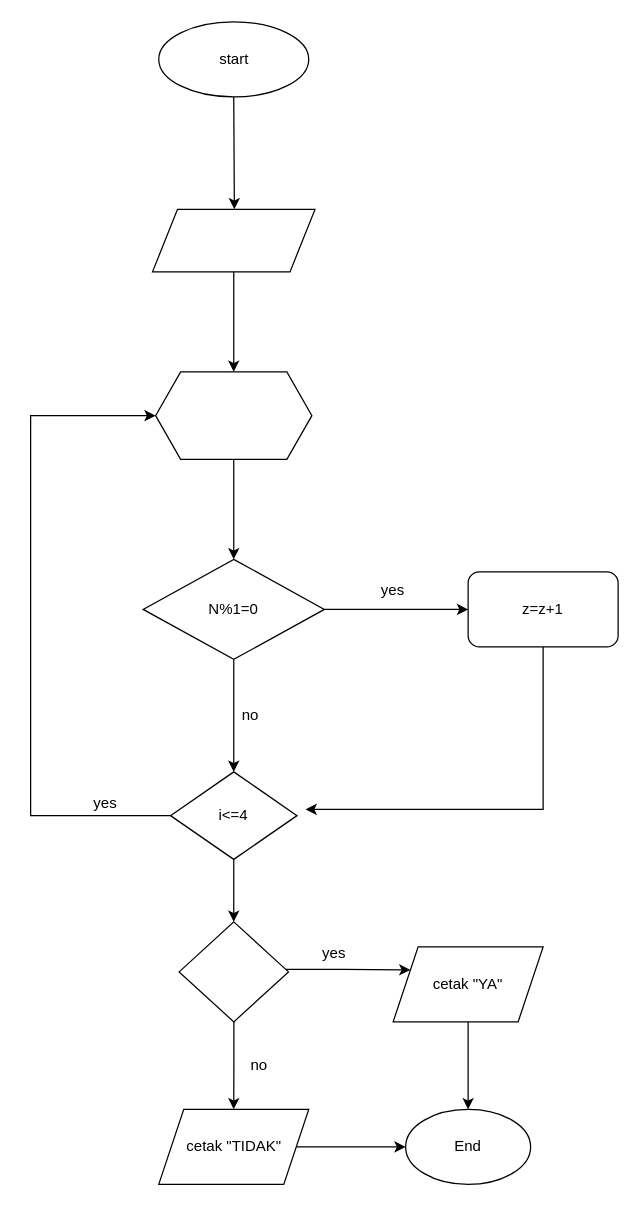
The diagram is 640 pixels wide and 1206 high, and some of its shapes have lost their labels. Here are the shapes that lost their labels. From the top down, the centre of each, then its label:
At [233,240]: "input(N)".
At [233,415]: "i=1 to N z=0".
At [233,971]: "z<=4".
